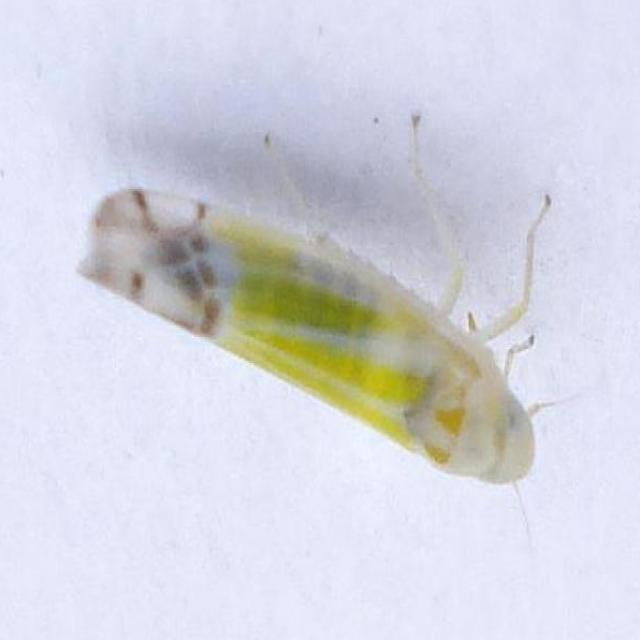green leaf hopper: (78, 190, 550, 485)
